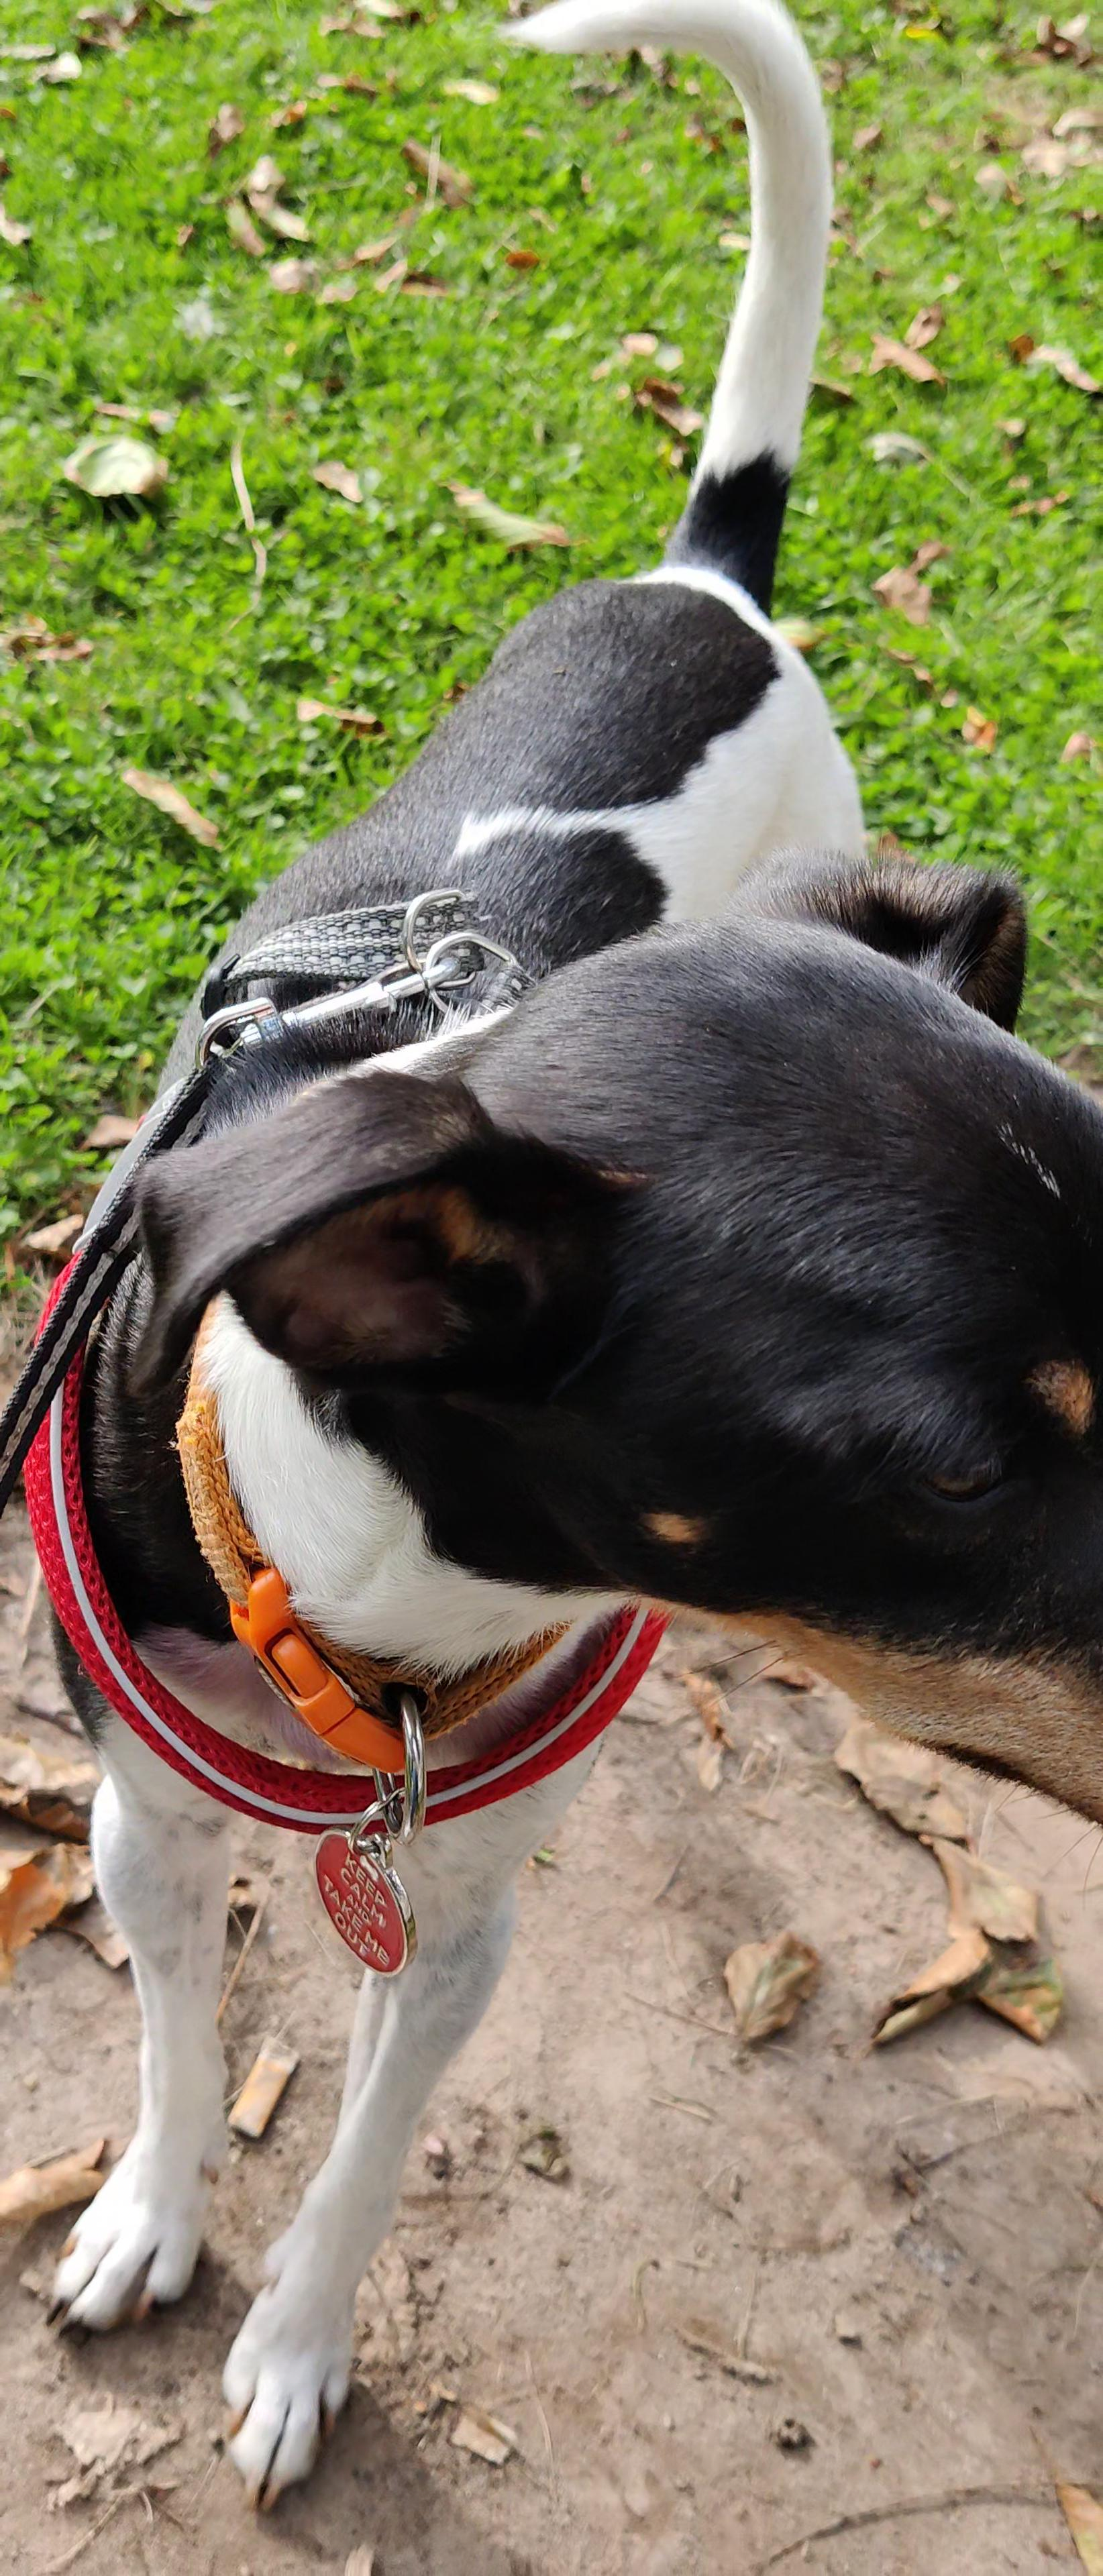Dog: (0, 0, 1103, 2525)
